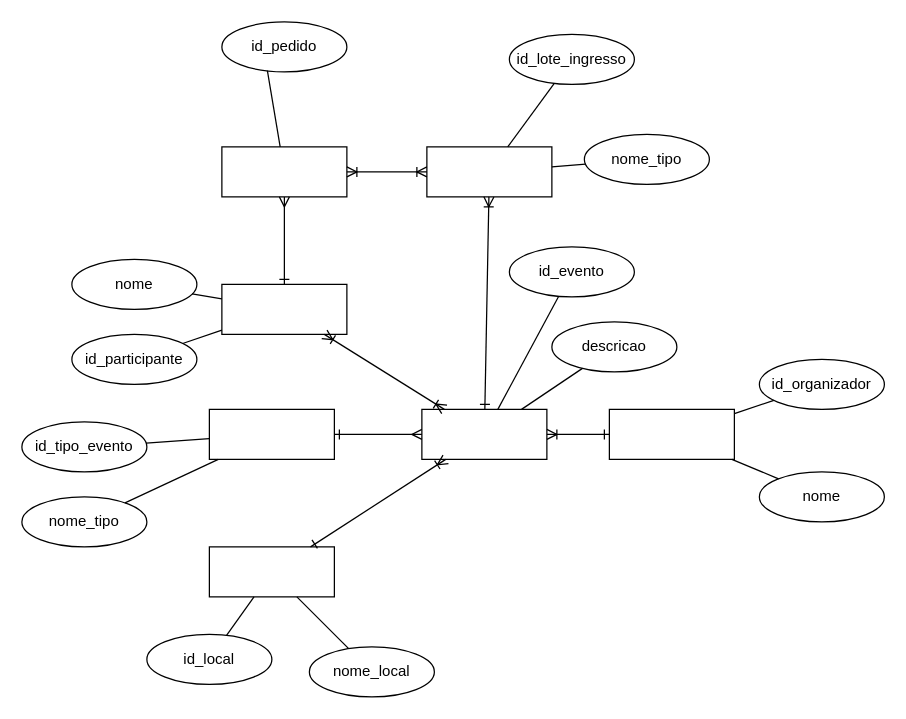
Image size: 906x719. Some labels were removed from this diagram. The box of each missing label's shape, as (x1, y1, x2, y2) in pixels:
Evento: (421, 408, 547, 459)
Local: (208, 546, 334, 597)
Lote_ingresso: (426, 146, 552, 197)
organizador: (608, 408, 734, 459)
Participante: (221, 283, 347, 334)
pedido: (221, 146, 347, 197)
tipo_evento: (208, 408, 334, 459)
